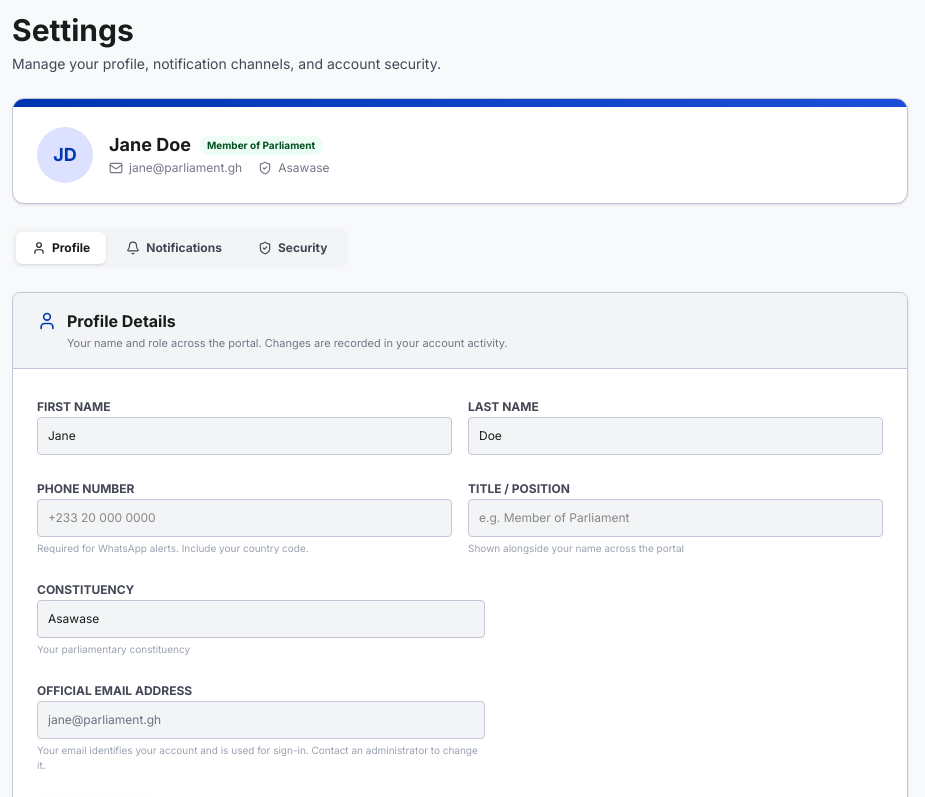
Test: SettingsView › survives an activity endpoint failure
The image size is (925, 797).
Click the button "Security".
click(293, 248)  # box [242,232,344,264]
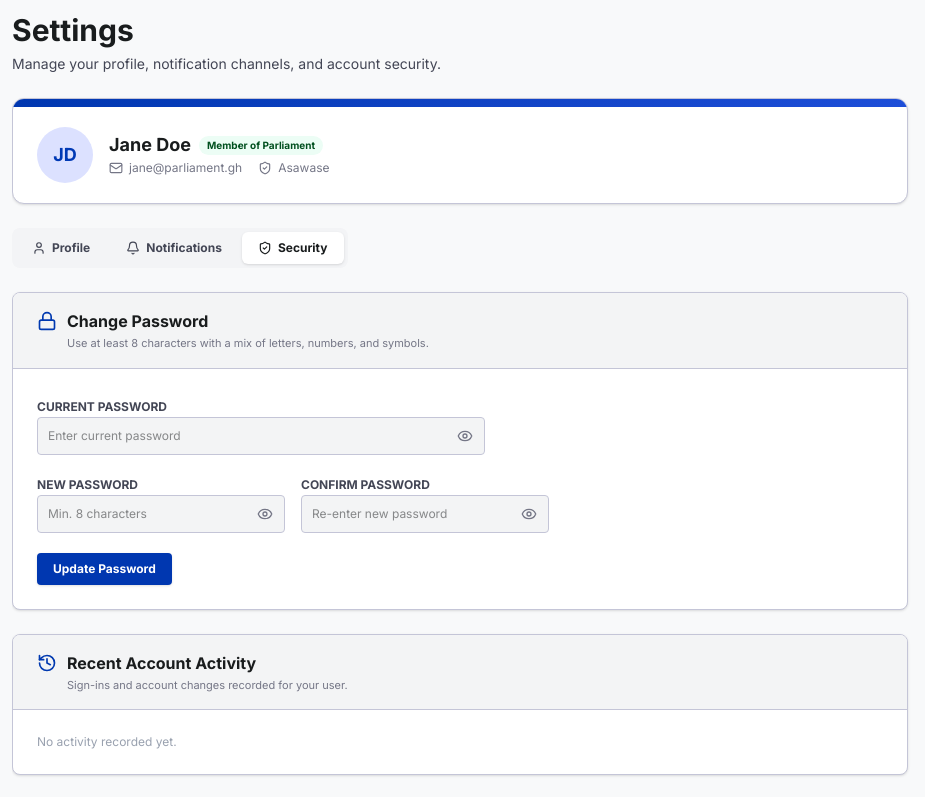
Result: the text "No activity recorded yet." is shown at [37,734,177,749]
